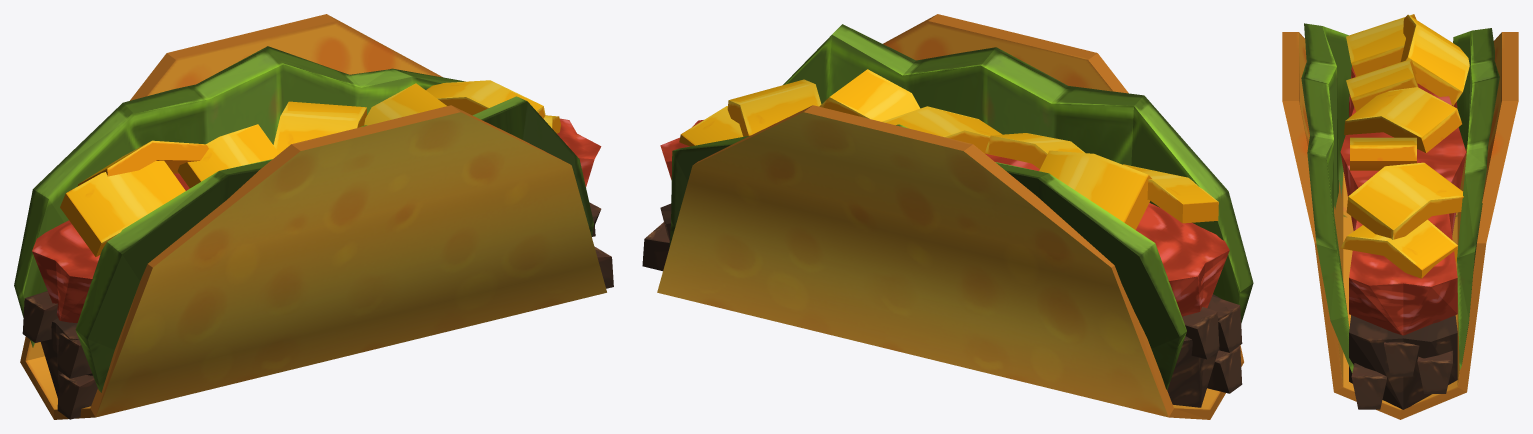
Rendered from taco.FBX.
3 views of the same model, side by side, from view 1: azimuth 30°, elevation 25°; view 2: azimuth 150°, elevation 25°; view 3: azimuth 270°, elevation 25° (orthographic). The views are drawn at different scales.
Parts seen in each view (by area): view 1: taco; view 2: taco; view 3: taco.
Part boxes in pixels (x1,y1,x2,y2): taco: [14, 14, 613, 419]; taco: [642, 14, 1253, 419]; taco: [1282, 14, 1518, 419].
Size of the model in its own units: 11.9 by 5.61 by 4.97.
